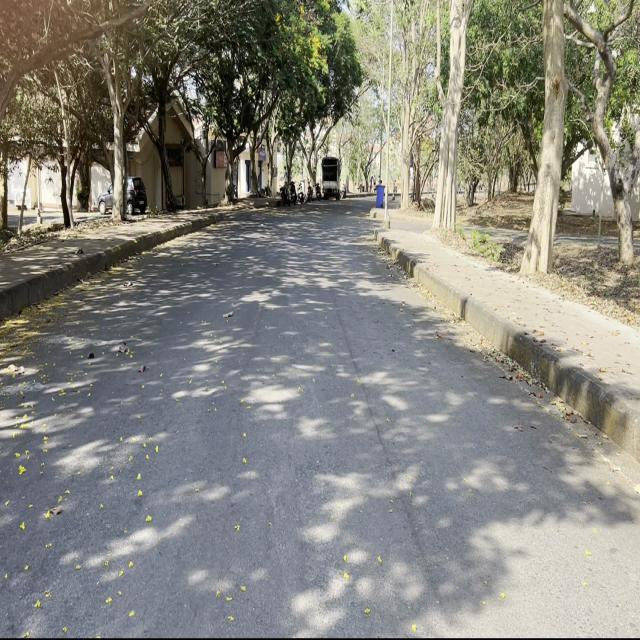Object: (316, 148, 344, 204)
Road: (5, 199, 639, 630)
